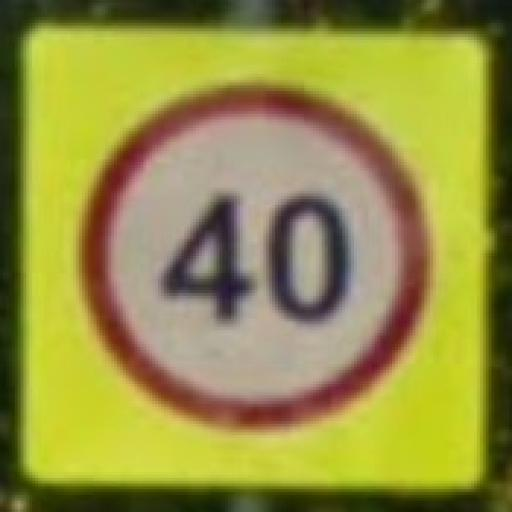traffic_sign: (74, 78, 434, 439)
